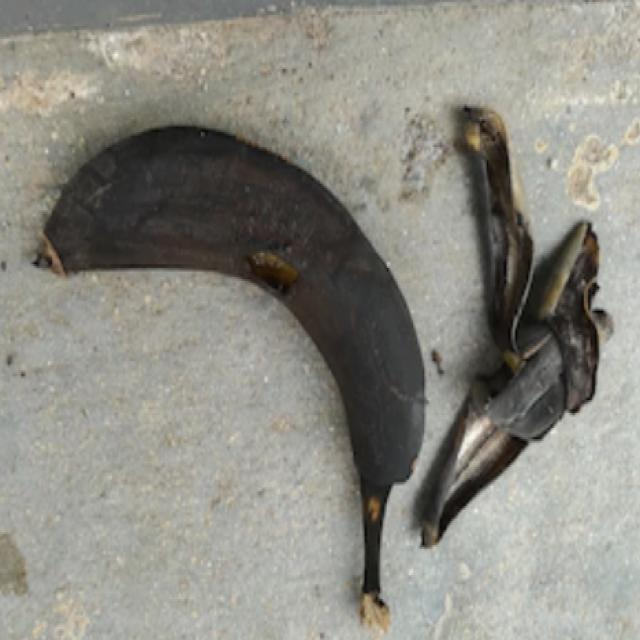Rotten: (22, 90, 434, 638)
